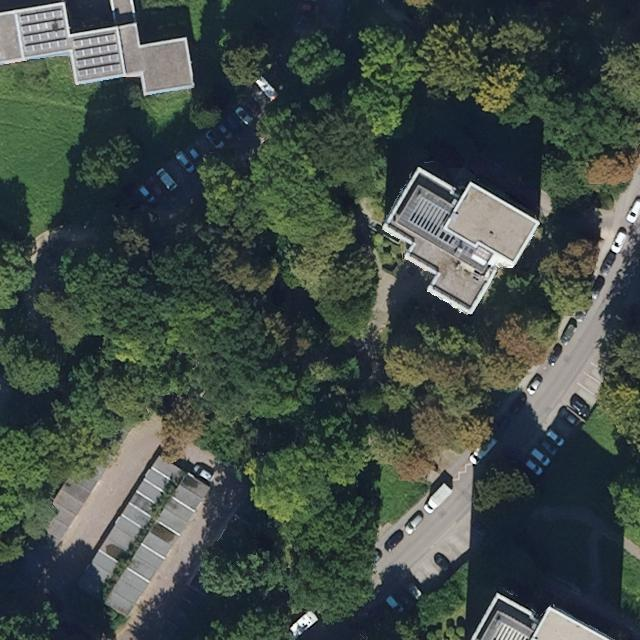PV: (71, 30, 124, 79), (18, 6, 69, 54)
